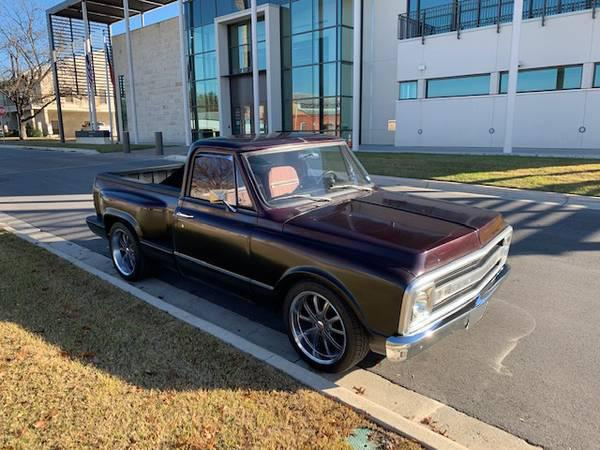Front_Bumper: (371, 261, 514, 360)
Front_Fender: (246, 214, 412, 338)
Front_Right_Door: (169, 194, 255, 302)
Front_Right_Window: (186, 150, 254, 209)
Front_Windshield: (248, 142, 378, 209)
Grille: (398, 222, 510, 334)
Hood: (271, 187, 510, 276)
Rear_Fender: (90, 173, 178, 260)
Roof: (179, 131, 345, 213)
Wheel: (281, 286, 367, 381), (109, 220, 141, 275)
